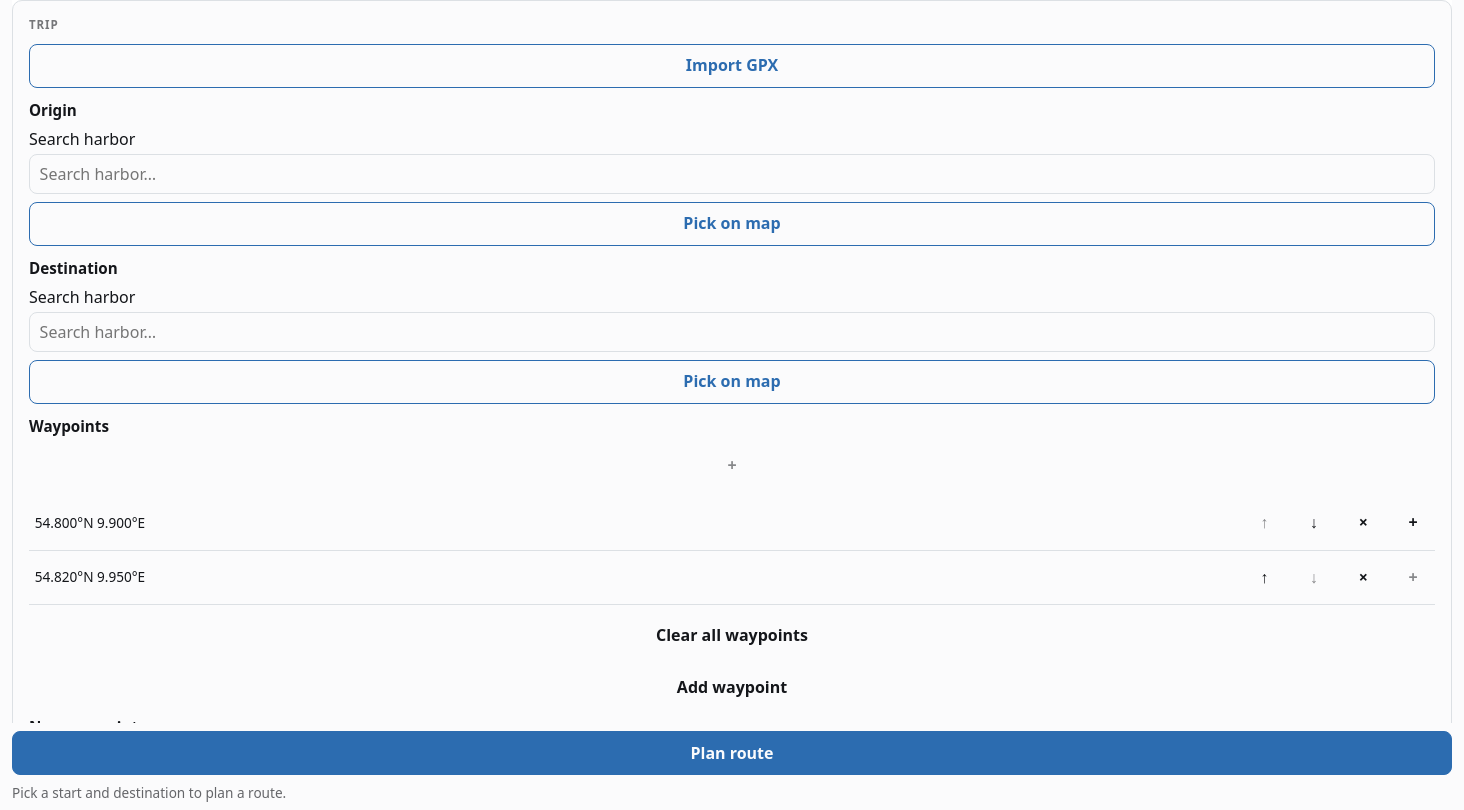
PlannerPanel › via waypoints › #938 clear all › a single tap arms a confirm and removes nothing yet
Click the button "Clear all waypoints". click: click(732, 635)
box: [29,613,1435,657]
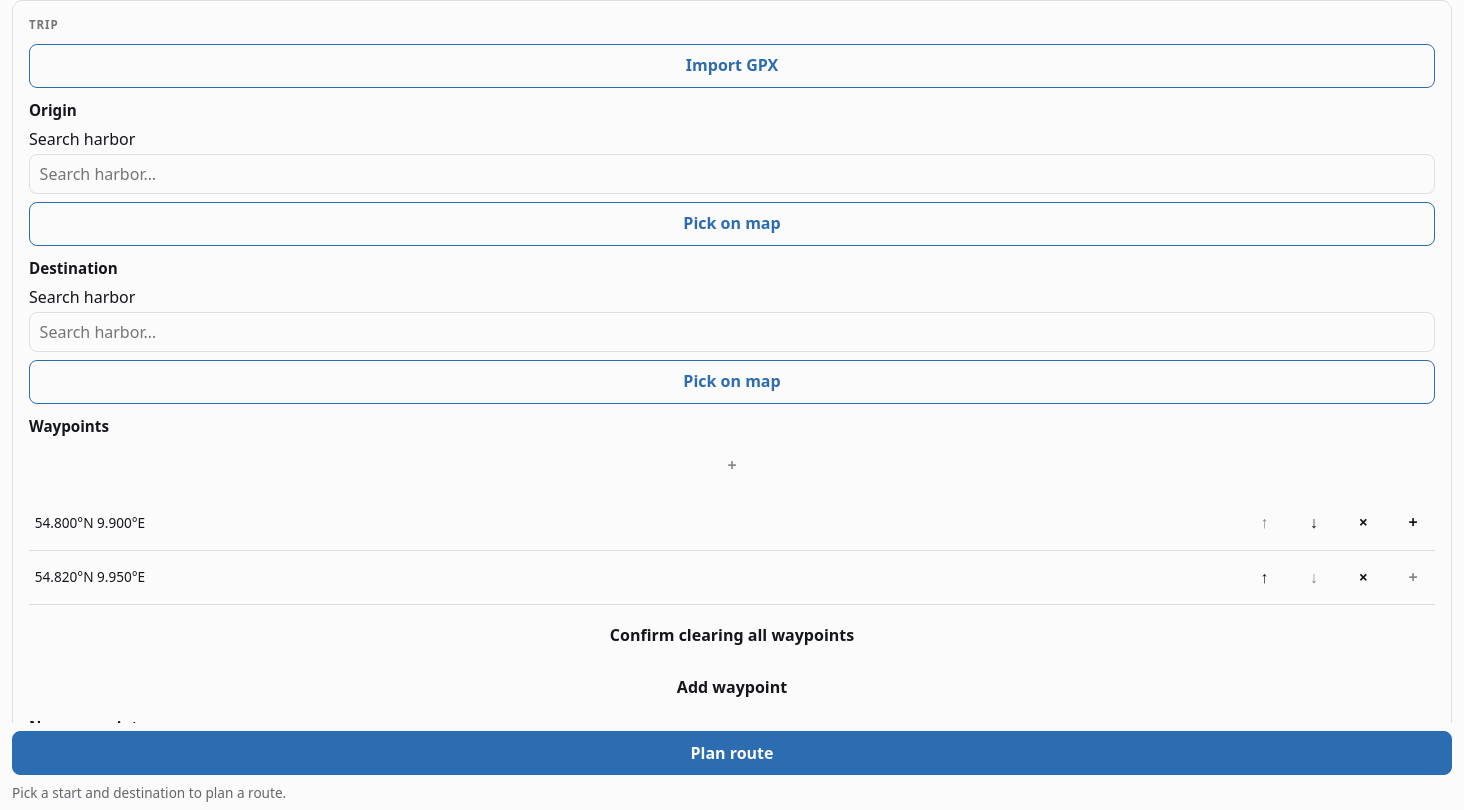
Expected: the number of list items is 2, [29,496,1435,551]; [29,551,1435,605]
Expected: the button "Confirm clearing all waypoints" is shown, [29,613,1435,657]
